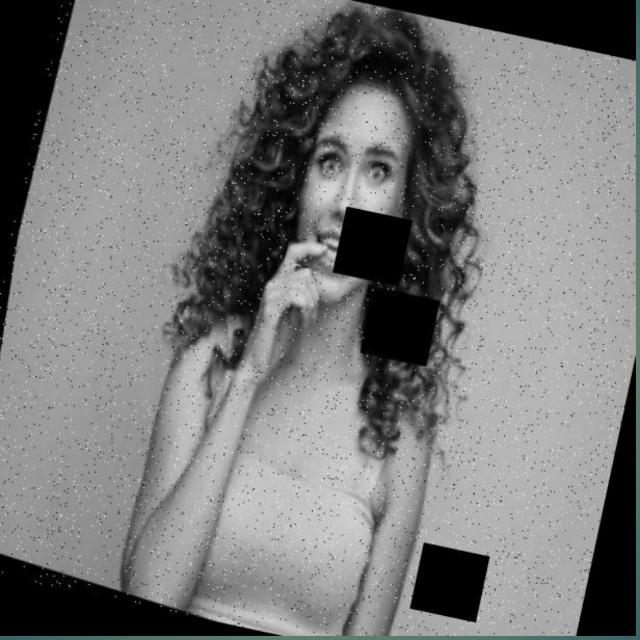Surprised: (285, 61, 419, 304)
